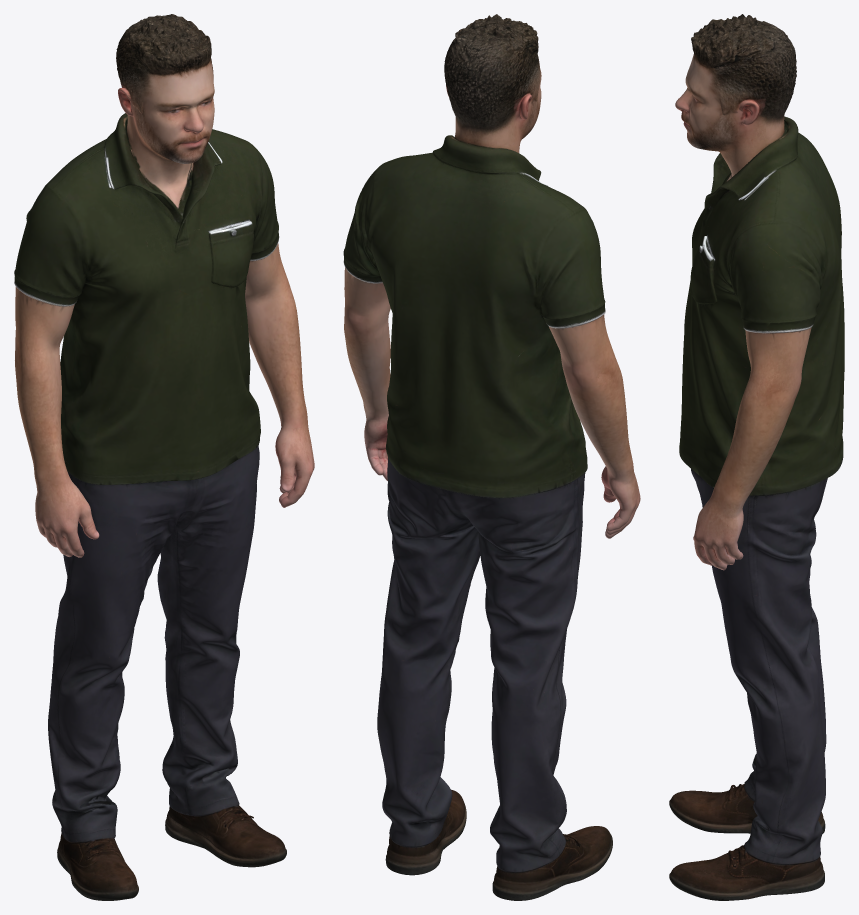
Rendered from john.glb.
3 renders of one model, left to right at view 1: azimuth 30°, elevation 25°; view 2: azimuth 150°, elevation 25°; view 3: azimuth 270°, elevation 25°, orthographic.
Size of the model in its own units: 0.6487 by 1.9 by 0.3625.
1 material, 1 textured.
